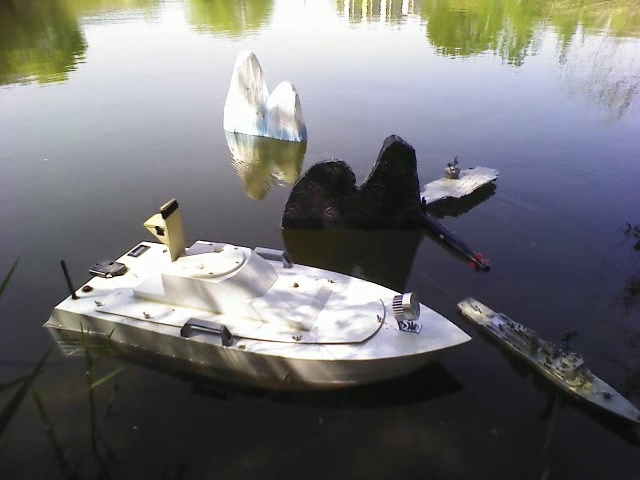aircraft_carrier: (421, 156, 499, 207)
boat: (41, 237, 475, 391)
iceberg: (218, 48, 310, 142)
rock: (268, 135, 422, 226)
submarine: (421, 211, 492, 269)
warship: (459, 290, 639, 425)
